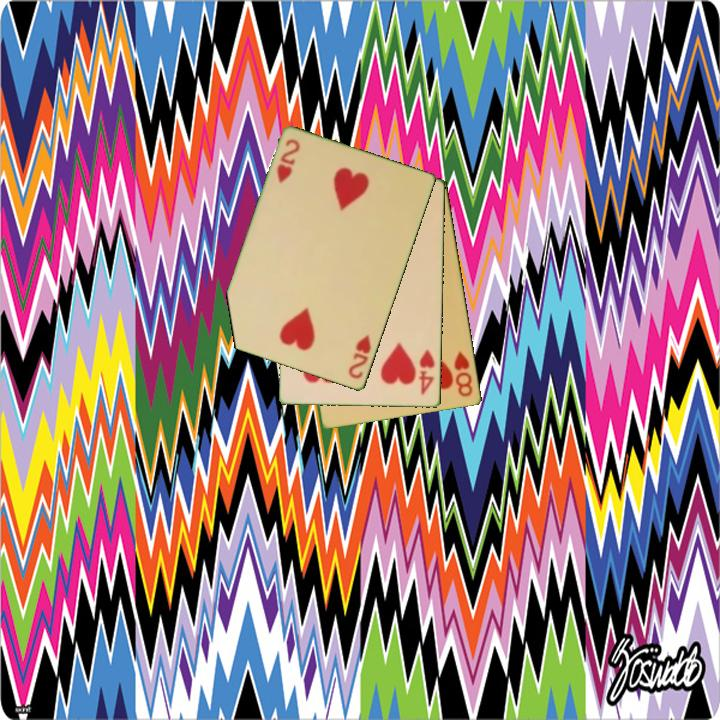2h: (273, 136, 303, 187), (345, 331, 374, 382)
4h: (415, 346, 438, 398)
8h: (451, 348, 476, 400)
